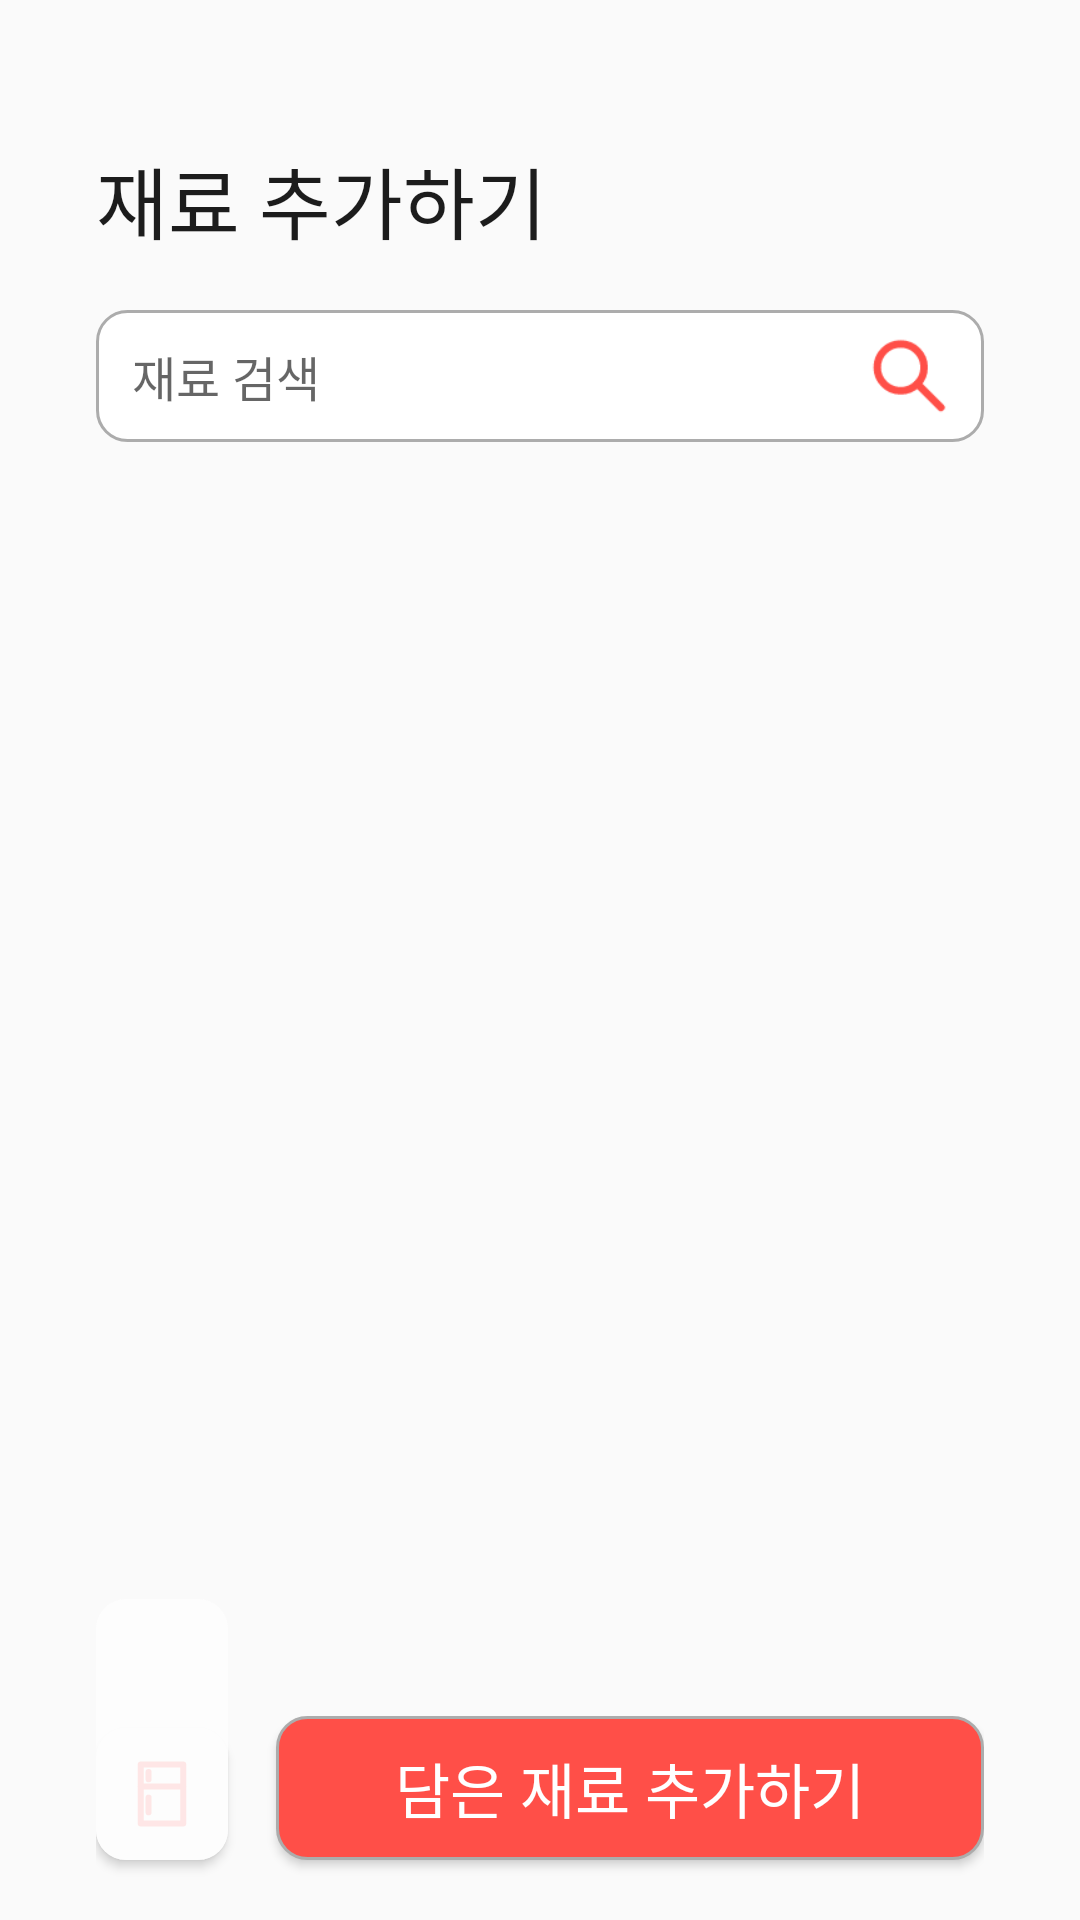

Point at icon controls on the screen. Image size 1080×1920, points as (x=x, y=y).
searchbt: (x=909, y=375)
